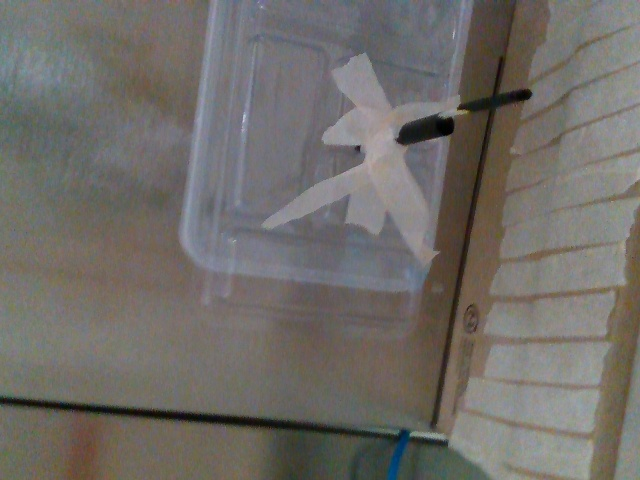test_strip: (438, 87, 533, 116)
